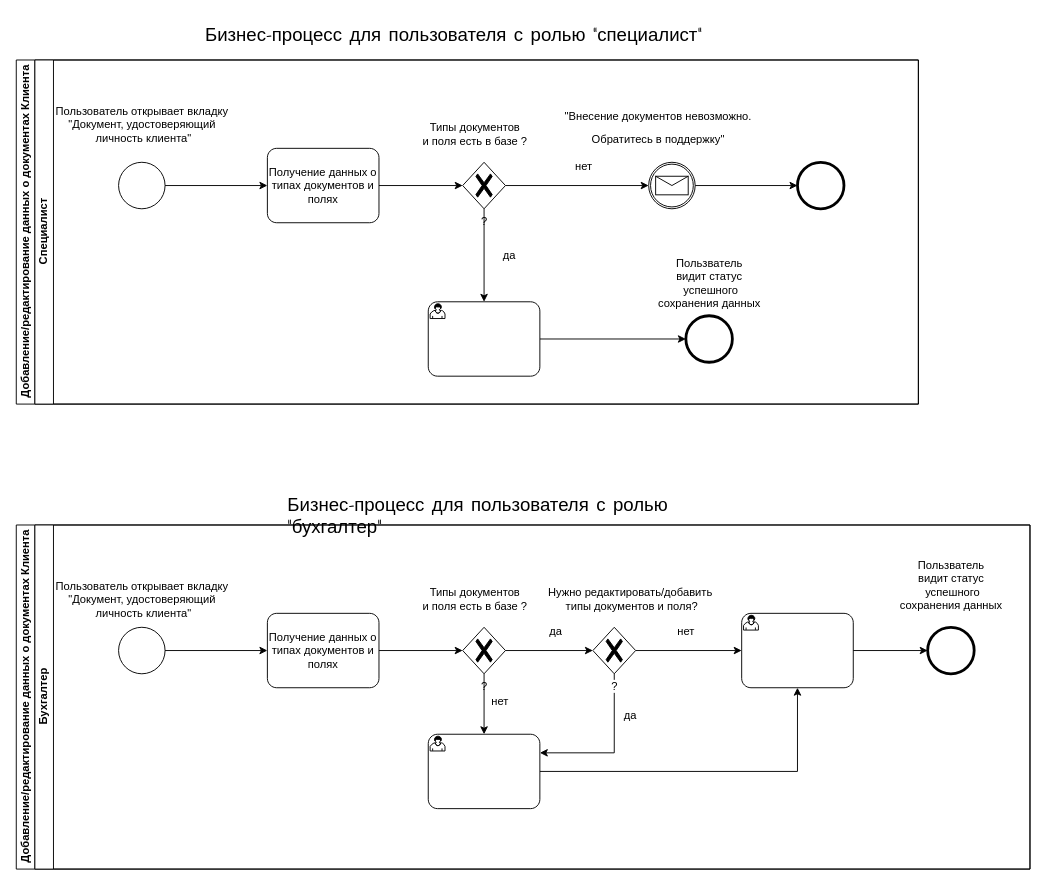
Image size: 1046x885. Some labels were removed from this diagram. Each missing label, with the centre of its shape:
Добавление типов документов и полей: (x=483, y=771)
Заполнение/редактирование данных в форме: (x=483, y=338)
Заполнение/редактирование данных документа в форме: (x=797, y=650)
